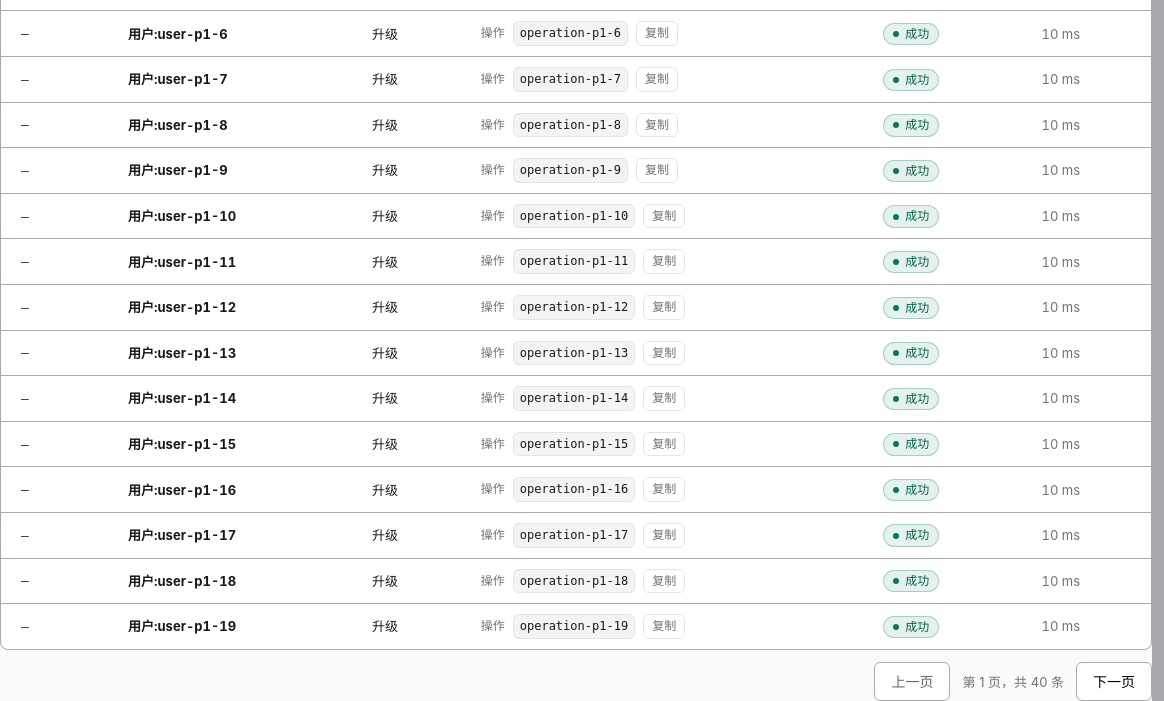
Test case: AuditPage › replaces the page, announces the position and keeps focus on the results (TASK-375)
(page scrolled)
Check: the message "第 1 页，共 40 条" is shown, box [962,672,1064,692]
Click the button "下一页" at (1114, 682), box [1076,662,1152,700]
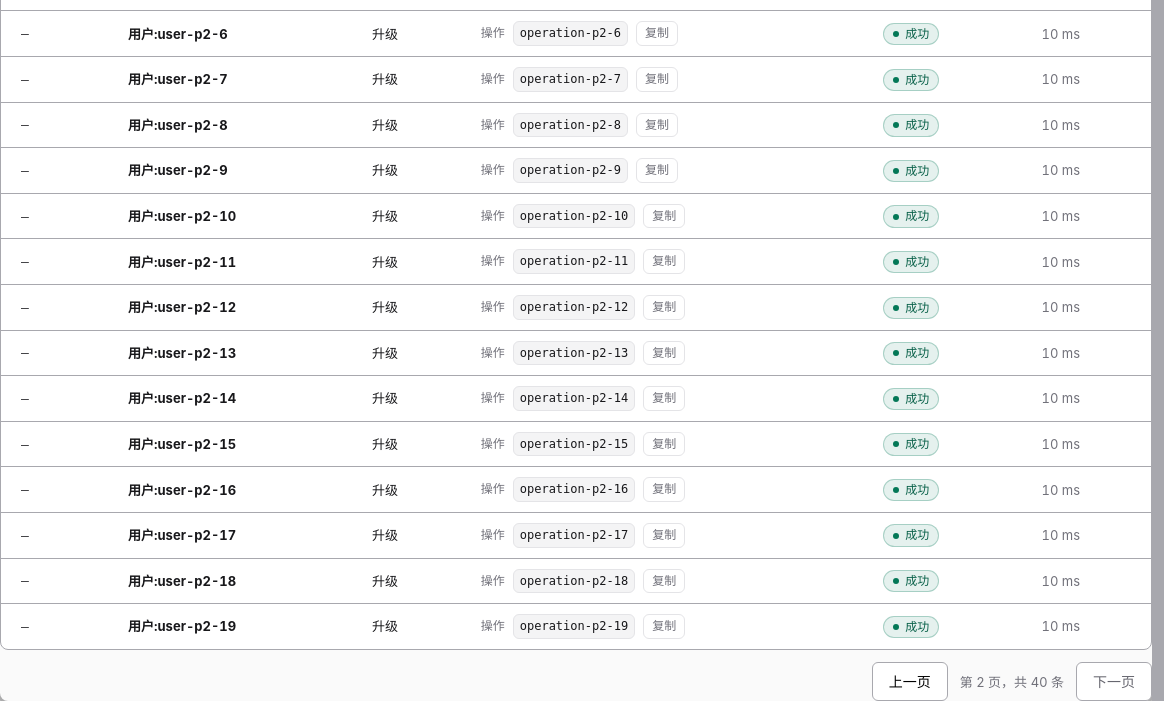
Check: the message "第 2 页，共 40 条" is shown, box [960,672,1064,692]
# "上一页" restores page one verbatim and rewinds the position.
Click the button "上一页" at (910, 682), box [872,662,948,700]
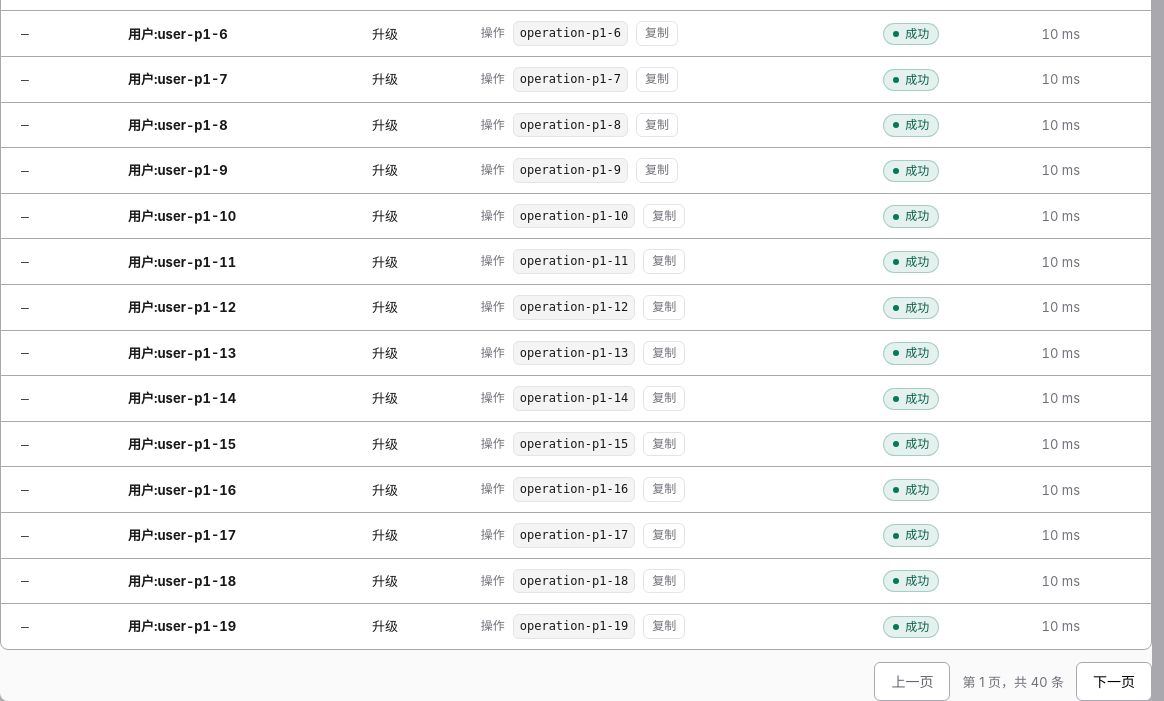
Check: the message "第 1 页，共 40 条" is shown, box [962,672,1064,692]
